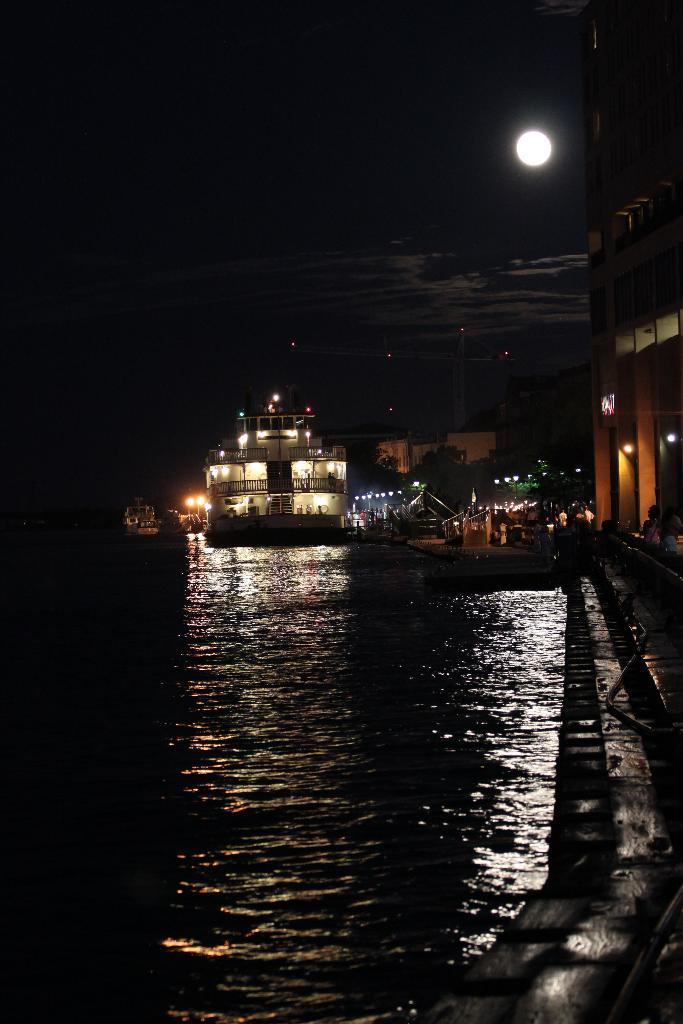PassengerShip: (187, 392, 363, 550)
